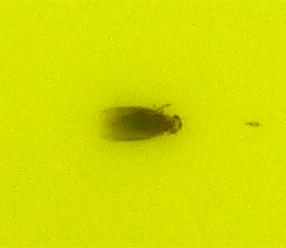Hemiptera: (100, 100, 186, 148)
